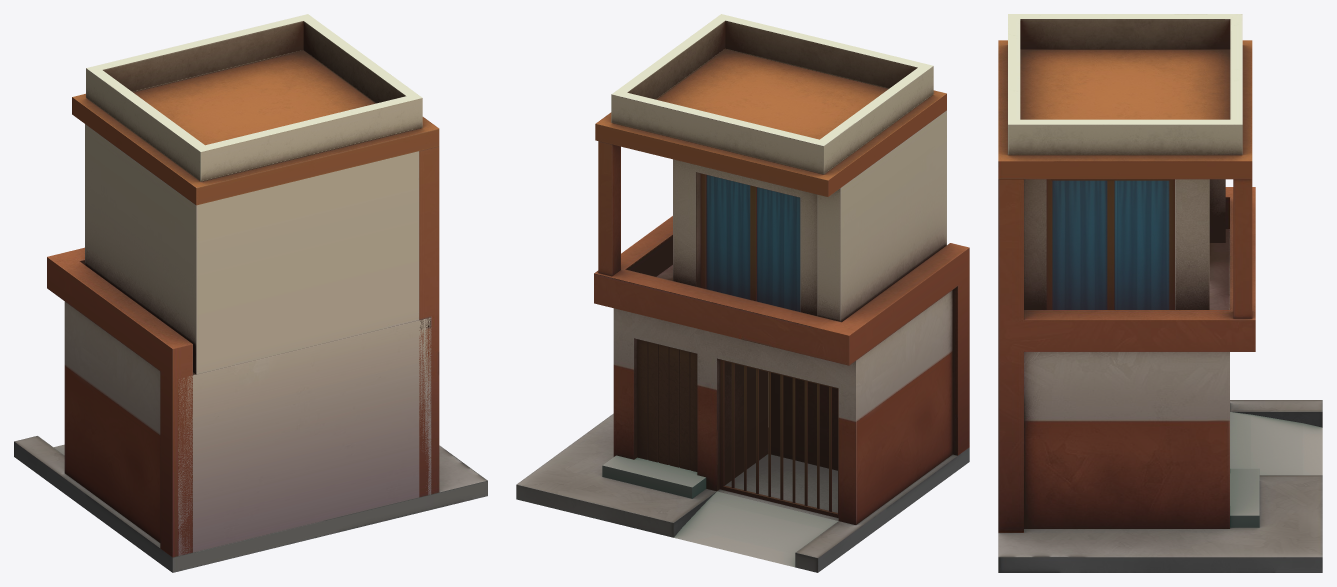
The model's file is casa-dos-pisos.glb.
The picture shows the model from 3 angles, left to right: view 1: azimuth 30°, elevation 25°; view 2: azimuth 150°, elevation 25°; view 3: azimuth 270°, elevation 25°; orthographic projection. The views are drawn at different scales.
Parts seen in each view (by area): view 1: Piso 1, Piso 2, Techo muros, Base techo.002, Soportes, Piso3; view 2: Piso 1, Soportes, Piso 2, Techo muros, Base techo.002, Piso3, Puerta vidrio, Puerta 2, Rampa, Rejas, Escalon 2; view 3: Piso 1, Base techo.002, Soportes, Piso3, Techo muros, Puerta vidrio, Piso 2, Rampa, Escalon 2.
Part boxes in pixels (left/top/right/bottom): Piso 1: left=64, top=301, right=431, bottom=555; Piso 2: left=85, top=124, right=419, bottom=374; Techo muros: left=86, top=14, right=422, bottom=181; Base techo.002: left=72, top=50, right=439, bottom=205; Soportes: left=47, top=146, right=439, bottom=557; Piso3: left=14, top=436, right=487, bottom=572; Piso 1: left=613, top=265, right=952, bottom=524; Soportes: left=594, top=141, right=969, bottom=455; Piso 2: left=673, top=110, right=946, bottom=322; Techo muros: left=611, top=14, right=933, bottom=174; Base techo.002: left=595, top=49, right=946, bottom=196; Piso3: left=516, top=413, right=969, bottom=572; Puerta vidrio: left=700, top=173, right=800, bottom=311; Puerta 2: left=637, top=339, right=697, bottom=471; Rampa: left=674, top=491, right=838, bottom=567; Rejas: left=719, top=359, right=838, bottom=517; Escalon 2: left=602, top=455, right=706, bottom=498; Piso 1: left=1024, top=229, right=1229, bottom=528; Base techo.002: left=998, top=40, right=1252, bottom=179; Soportes: left=998, top=179, right=1255, bottom=532; Piso3: left=998, top=400, right=1322, bottom=572; Techo muros: left=1008, top=14, right=1242, bottom=154; Puerta vidrio: left=1046, top=179, right=1174, bottom=309; Piso 2: left=1024, top=179, right=1225, bottom=309; Rampa: left=1230, top=412, right=1322, bottom=475; Escalon 2: left=1230, top=468, right=1259, bottom=527.
Bounding box in the file's own units: 6.17 × 7.66 × 5.38.
Materials: 11 (11 with a texture image).
